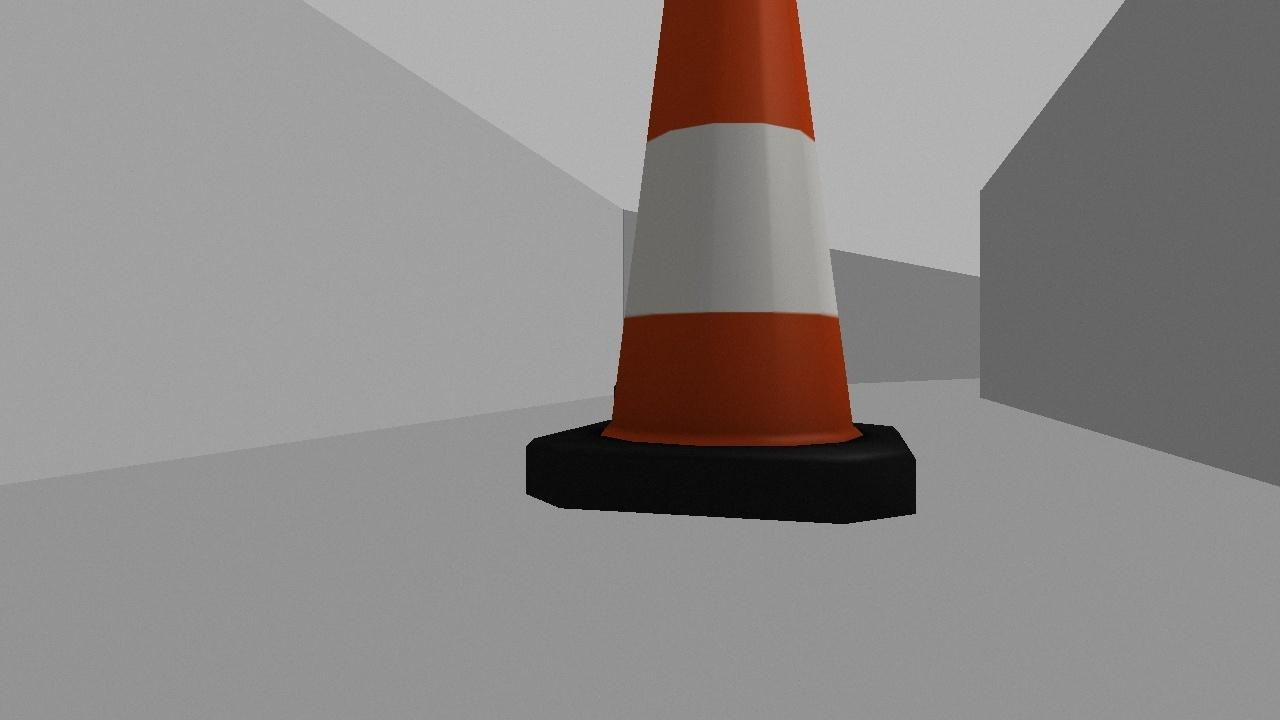cone_barrel: (526, 0, 917, 523)
